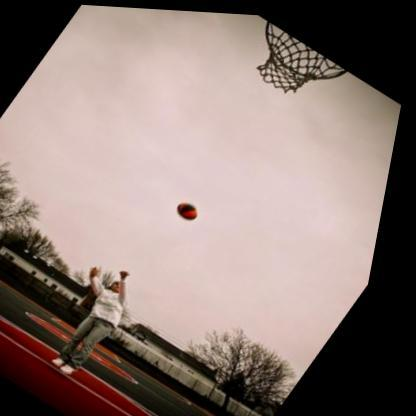basketball: (179, 195, 210, 222)
rim: (240, 15, 360, 93)
